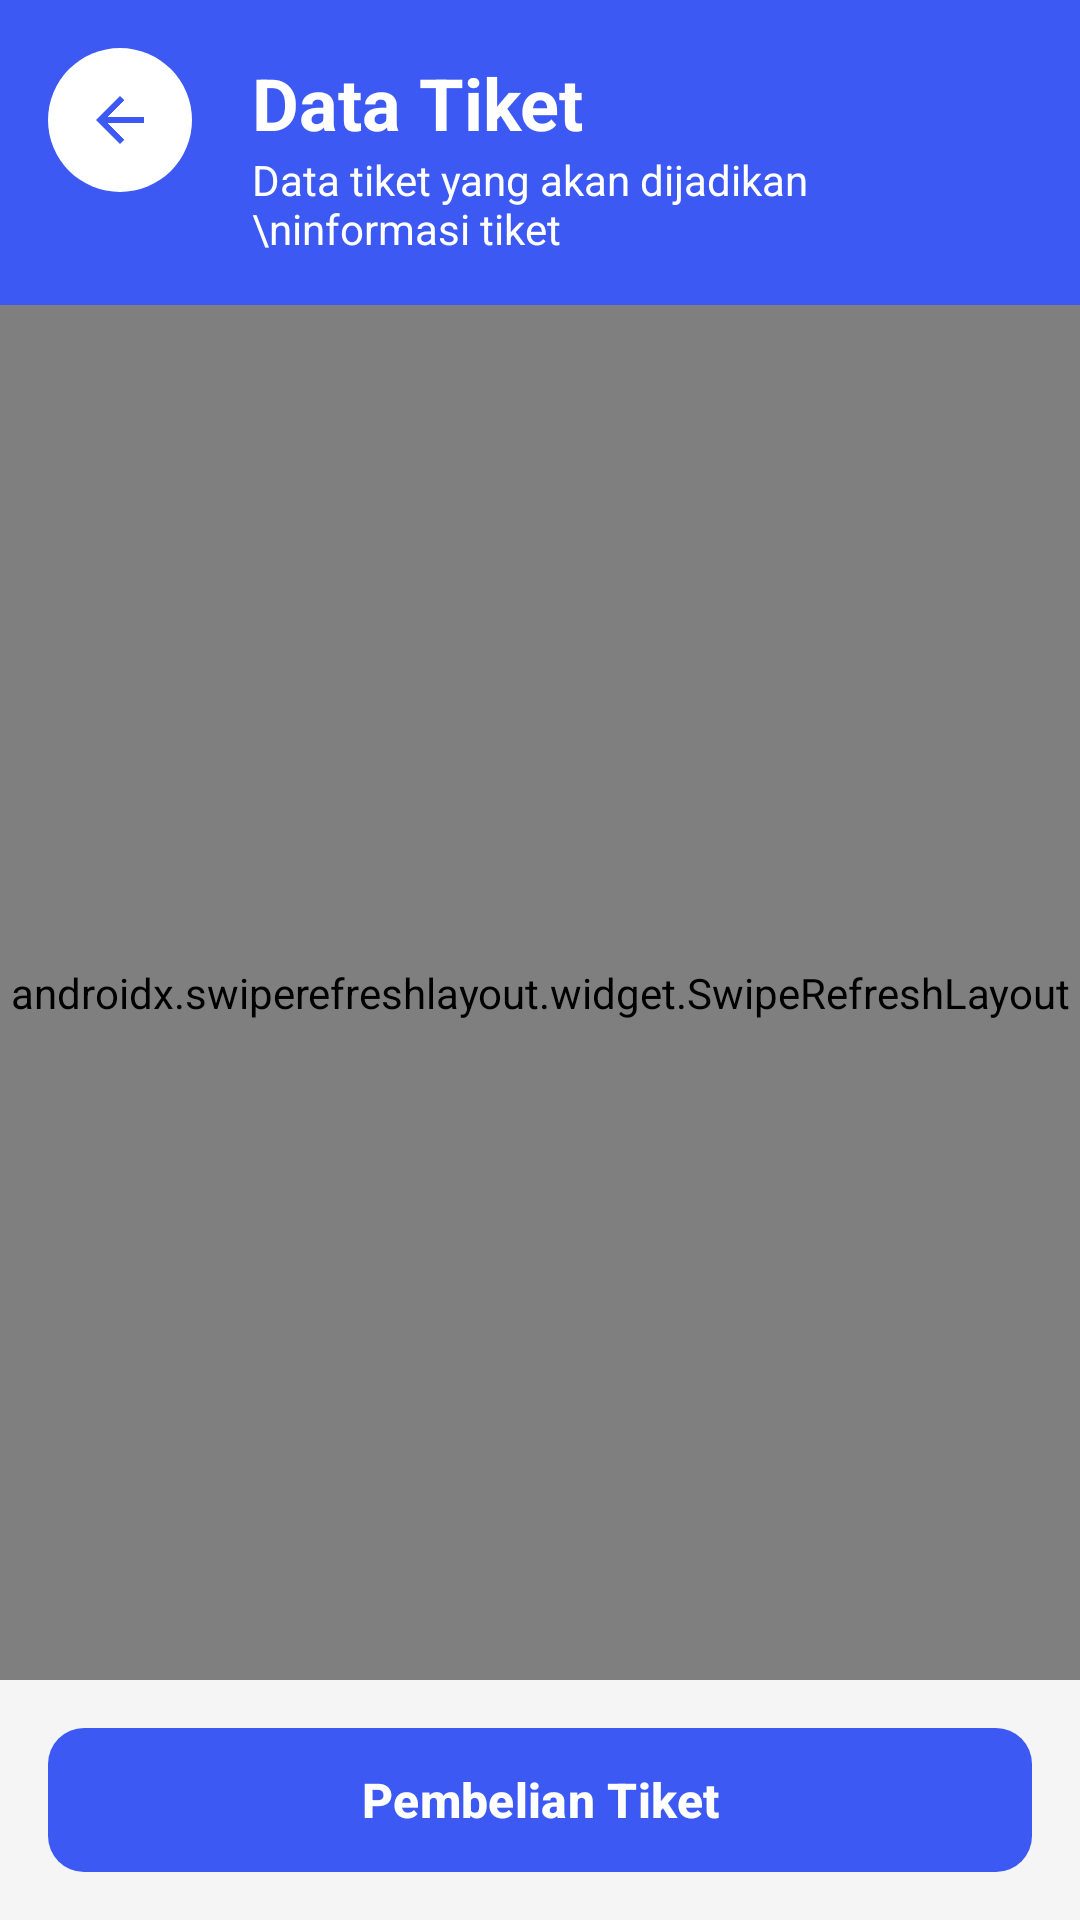

Icons on this 1080×1920 Android screen, each with the point to tap as point (x, y):
back arrow: point (120, 120)
